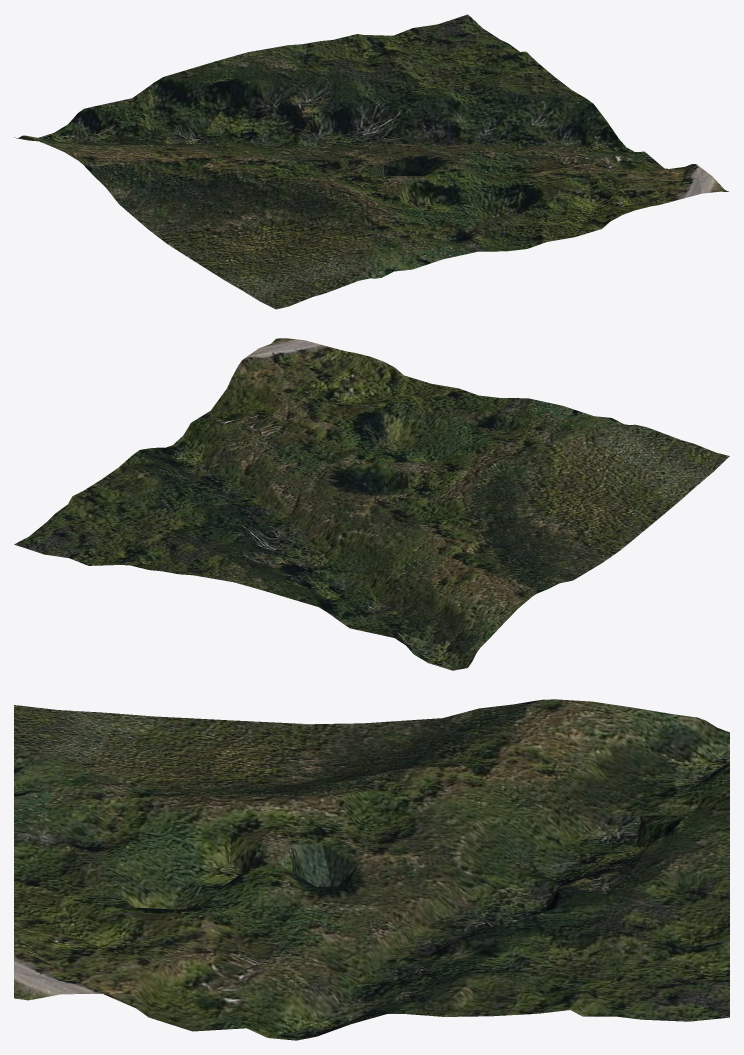
The model's file is map_15_8179_13780.dae.
3 renders of one model, top to bottom at view 1: azimuth 30°, elevation 25°; view 2: azimuth 150°, elevation 25°; view 3: azimuth 270°, elevation 25°, orthographic. The views are drawn at different scales.
Visible parts, largest first — view 1: Ter0; view 2: Ter0; view 3: Ter0.
Part boxes in pixels (box(x1,y1,x2,y2)): Ter0: box(14, 14, 728, 309); Ter0: box(14, 338, 729, 670); Ter0: box(14, 699, 729, 1040).
Size of the model in its own units: 63.87 by 63.88 by 5.85.
3 materials, 3 textured.
